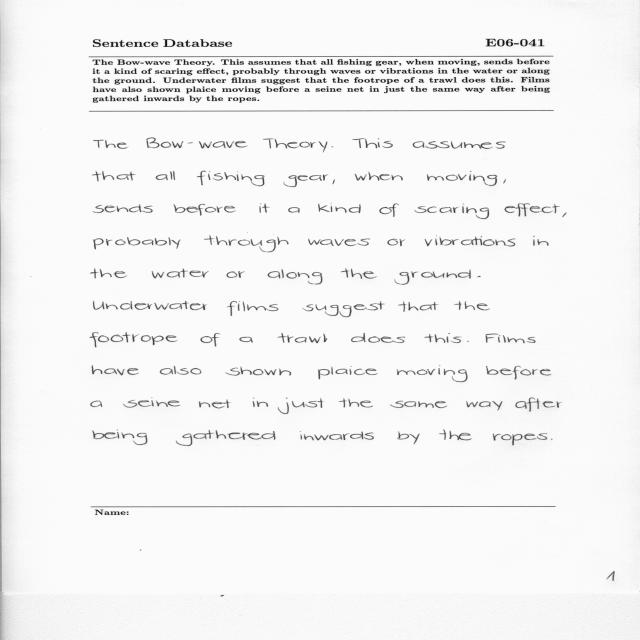word: (176, 430, 275, 446), (204, 236, 289, 252), (90, 332, 178, 347), (303, 301, 385, 317), (394, 269, 471, 285), (397, 365, 467, 382), (415, 204, 490, 219), (146, 138, 248, 149), (427, 171, 497, 186), (94, 237, 180, 249), (197, 171, 265, 186), (94, 301, 207, 310), (425, 236, 515, 247), (486, 366, 551, 380), (263, 139, 327, 153), (268, 270, 323, 285), (93, 430, 147, 445), (227, 301, 279, 316), (318, 366, 377, 379), (413, 141, 506, 149), (278, 398, 324, 414), (504, 204, 560, 217), (493, 433, 547, 446), (173, 204, 236, 215), (300, 431, 374, 440), (516, 398, 562, 412), (226, 367, 292, 376), (123, 398, 181, 408), (284, 175, 328, 188), (152, 269, 209, 279), (93, 204, 153, 213), (351, 333, 405, 343), (485, 334, 536, 344), (278, 333, 328, 343), (92, 171, 136, 182), (92, 365, 139, 375), (398, 301, 438, 312), (308, 239, 370, 246), (355, 172, 403, 181), (352, 139, 393, 149), (390, 401, 447, 408), (341, 268, 377, 279), (318, 204, 361, 213), (91, 269, 128, 279), (425, 333, 462, 343), (160, 366, 201, 375), (439, 430, 472, 441), (339, 398, 373, 408), (454, 301, 490, 310), (466, 401, 502, 410), (94, 140, 128, 149), (397, 432, 420, 445), (199, 400, 231, 409), (379, 203, 399, 217), (200, 333, 220, 347), (156, 171, 175, 180), (533, 236, 549, 246), (253, 397, 268, 407), (226, 271, 245, 278), (388, 239, 406, 246), (260, 203, 270, 213), (239, 337, 253, 343), (288, 207, 300, 213), (91, 401, 102, 407), (562, 213, 567, 218), (332, 180, 335, 185), (503, 179, 506, 184), (477, 276, 481, 277), (332, 147, 334, 148), (467, 341, 469, 342), (551, 439, 552, 440)
